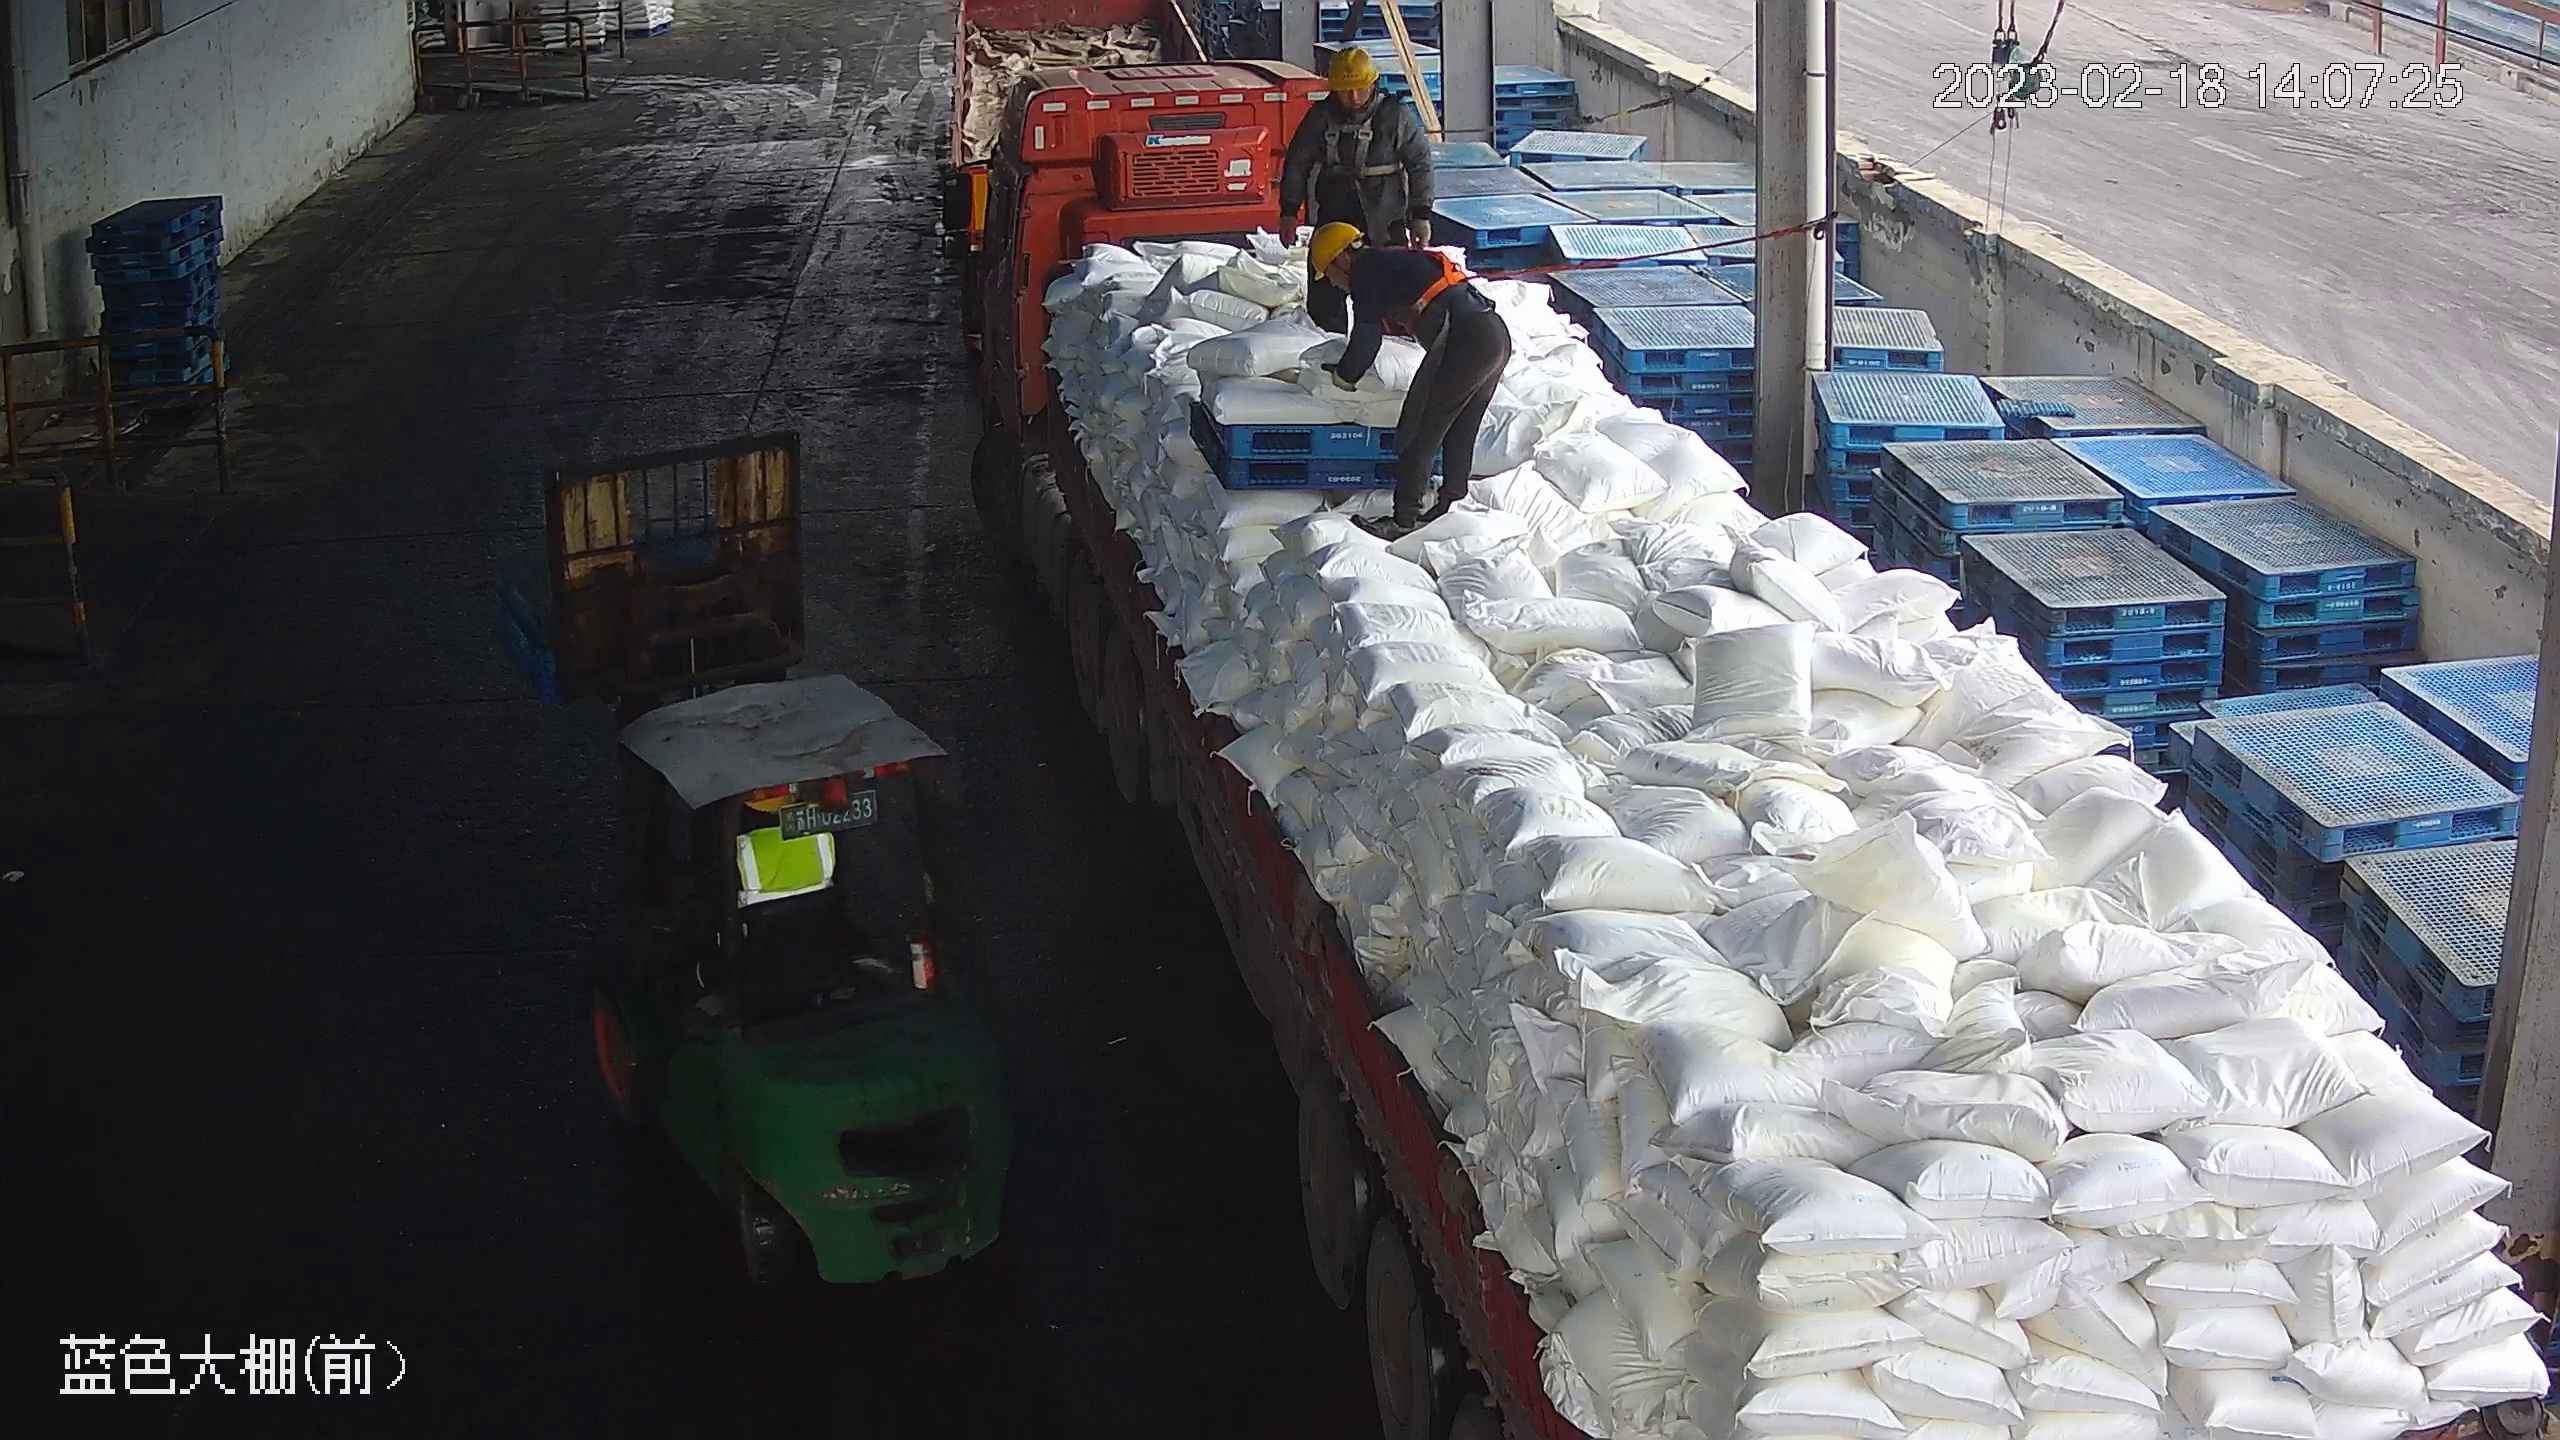belt: (1389, 244, 1496, 325), (1319, 113, 1420, 178)
head: (1309, 224, 1442, 328), (1312, 46, 1417, 159)
helmet: (1308, 221, 1367, 276), (1327, 46, 1378, 89)
people: (1305, 220, 1515, 541), (1279, 47, 1436, 342)
truck: (939, 49, 2560, 1440)
